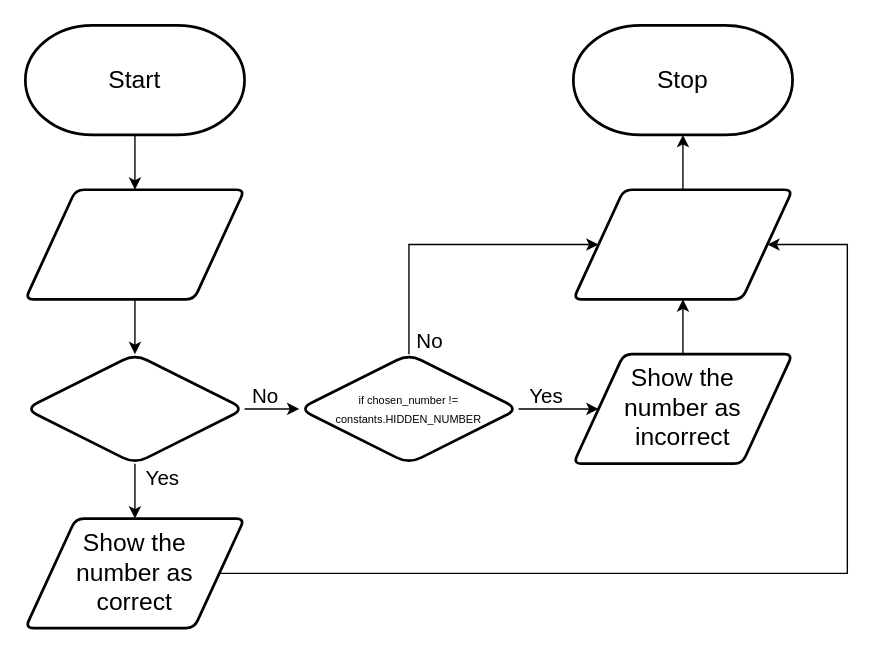
Image size: 882x652. Some labels were removed from this diagram. Each missing label, with the box of its shape:
if chosen_number == constants.HIDDEN_NUMBER: (23, 352, 245, 464)
Set the chosen number: (23, 188, 245, 300)
Show the program as done: (571, 188, 793, 300)
